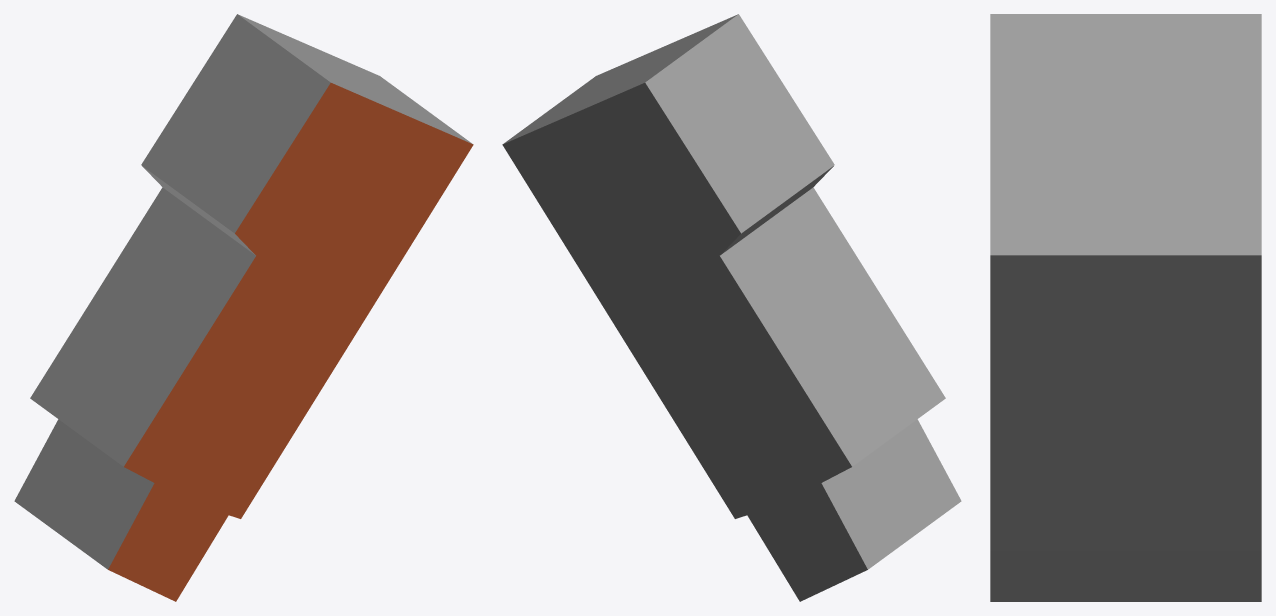
Rendered from construction_3354_assumed_A_Casa_h6m.obj.
3 renders of one model, left to right at view 1: azimuth 30°, elevation 25°; view 2: azimuth 150°, elevation 25°; view 3: azimuth 270°, elevation 25°, orthographic. The views are drawn at different scales.
Parts seen in each view (by area): view 1: construction_3354_assumed_A_Casa; view 2: construction_3354_assumed_A_Casa; view 3: construction_3354_assumed_A_Casa.
Boxes of the visible parts, x1,y1,x2,y2 form: construction_3354_assumed_A_Casa: [14, 14, 473, 601]; construction_3354_assumed_A_Casa: [502, 14, 961, 601]; construction_3354_assumed_A_Casa: [990, 14, 1261, 601].
Size of the model in its own units: 13.52 by 17.02 by 6.
